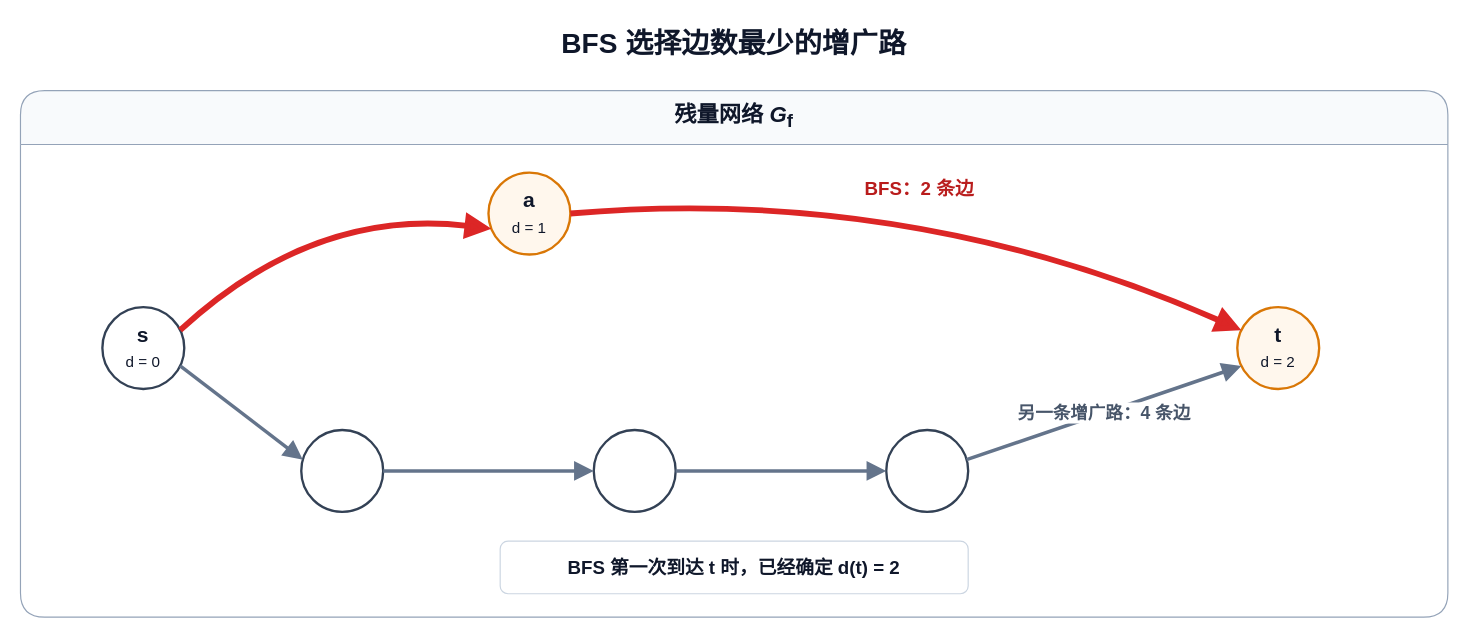
Some shapes in this 1468 by 638 pixel diagram are drawn without their labels. The shapes that lost their labels are listed below. From the top down, each one's centre as x and y in pixels, then its label:
At point 342,470: "b d = 1".
At point 634,470: "c d = 2".
At point 927,470: "d d = 3".
